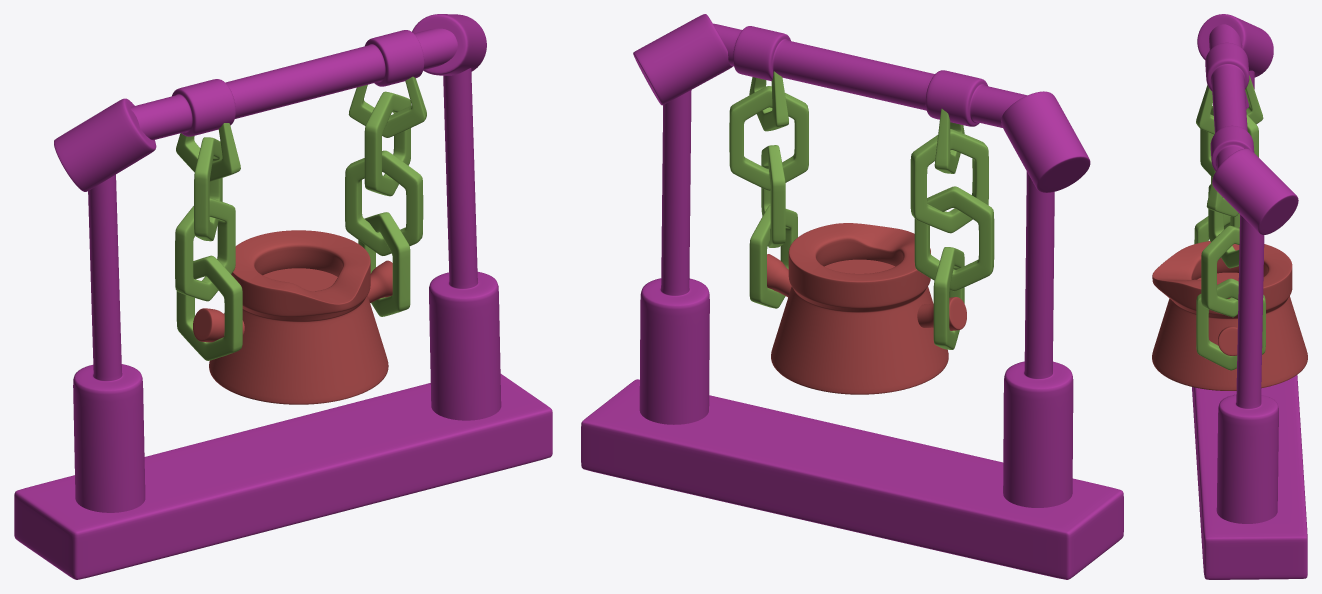
The model's file is Molten_Bucket.fbx.
3 views of the same model, side by side, from view 1: azimuth 30°, elevation 25°; view 2: azimuth 150°, elevation 25°; view 3: azimuth 270°, elevation 25° (orthographic). The views are drawn at different scales.
Visible parts, largest first — view 1: Base, Bucket2, pCylinder12, pCylinder13, polySurface3, pPipe2 (×2), pPipe1 (×2), polySurface5, pPipe3 (×2), pPipe4 (×2), polySurface7, Lava (+2 smaller); view 2: Base, Bucket2, pCylinder12, pCylinder13, polySurface3, pPipe3 (×2), polySurface5, pPipe2 (×2), polySurface7, pPipe1 (×2), pPipe4 (×2), Bucket_Handle_L1 (+2 smaller); view 3: Base, pCylinder12, Bucket2, polySurface3, polySurface7, pPipe1 (×2), polySurface5, pPipe2, pPipe4 (×2), pPipe3 (×2), Bucket_Handle_L.
Boxes of the visible parts, x1,y1,x2,y2 form: Base: (14, 374, 552, 579); Bucket2: (209, 230, 388, 404); pCylinder12: (429, 68, 501, 420); pCylinder13: (73, 174, 145, 512); polySurface3: (130, 28, 457, 140); pPipe2 (×2): (175, 150, 423, 301); pPipe1 (×2): (176, 212, 410, 360); polySurface5: (54, 98, 156, 191); pPipe3 (×2): (194, 91, 410, 241); pPipe4 (×2): (176, 76, 426, 181); polySurface7: (412, 14, 486, 75); Lava: (263, 268, 337, 291); Base: (581, 379, 1123, 579); Bucket2: (771, 223, 948, 394); pCylinder12: (639, 90, 709, 424); pCylinder13: (1003, 171, 1073, 507); polySurface3: (713, 23, 1027, 127); pPipe3 (×2): (729, 86, 988, 233); polySurface5: (1001, 91, 1090, 192); pPipe2 (×2): (761, 145, 994, 291); polySurface7: (633, 14, 732, 105); pPipe1 (×2): (749, 205, 964, 349); pPipe4 (×2): (749, 71, 964, 173); Bucket_Handle_L1: (917, 297, 966, 330); Base: (1192, 375, 1307, 579); pCylinder12: (1216, 214, 1278, 523); Bucket2: (1152, 241, 1307, 390); polySurface3: (1205, 24, 1254, 171); polySurface7: (1212, 148, 1298, 234); pPipe1 (×2): (1194, 214, 1265, 370); polySurface5: (1197, 14, 1273, 77); pPipe2: (1201, 225, 1239, 317); pPipe4 (×2): (1196, 75, 1263, 216); pPipe3 (×2): (1200, 106, 1258, 268); Bucket_Handle_L: (1218, 326, 1237, 355).
Bounding box in the file's own units: 1.12 × 0.9834 × 0.3545.
